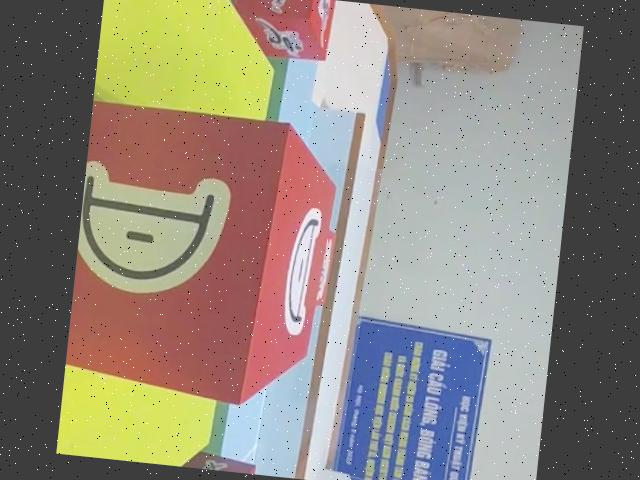R1: (215, 0, 341, 62)
R2 Real: (63, 87, 348, 417), (137, 438, 264, 475)
